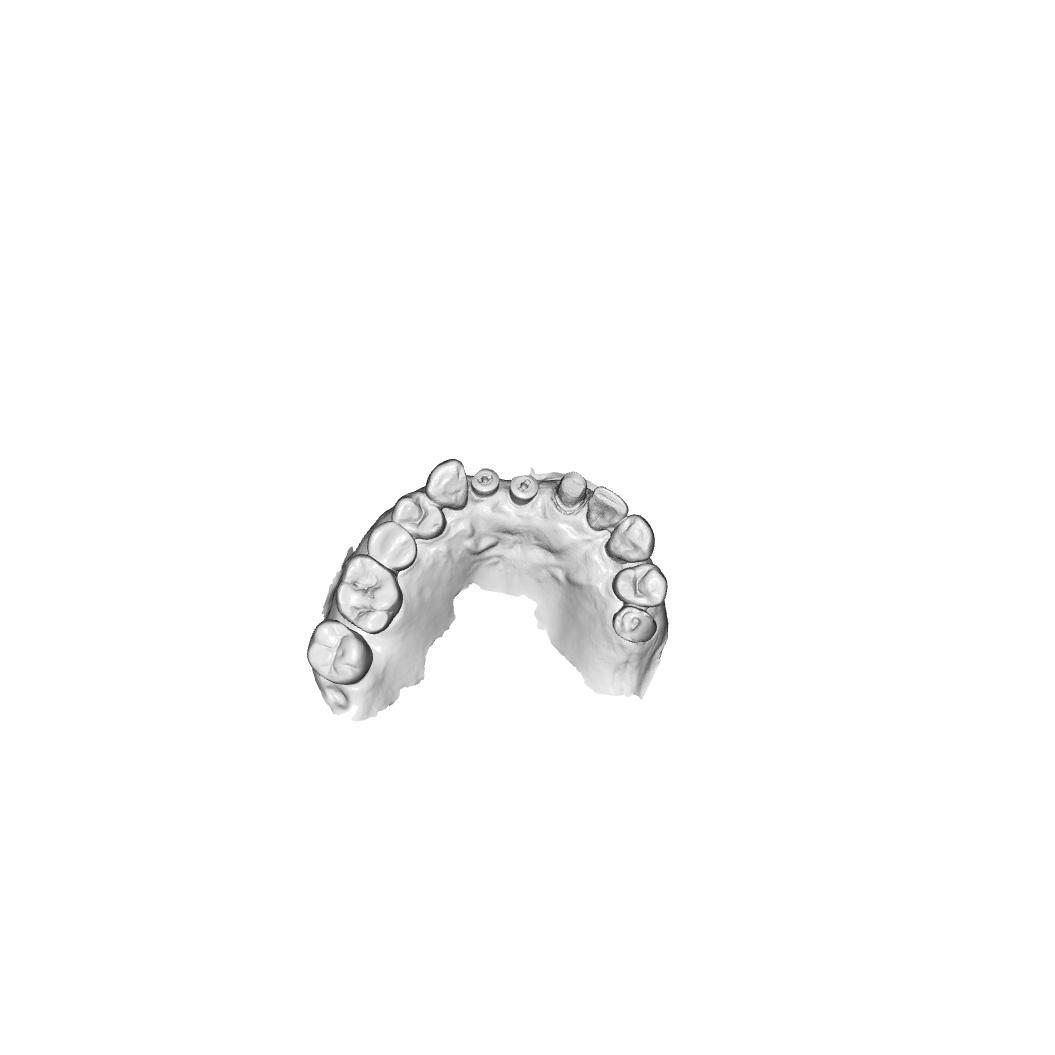canine: (605, 513, 656, 564), (425, 458, 469, 512)
crown: (551, 469, 589, 515)
implant_minus: (508, 474, 540, 506), (470, 467, 500, 498)
incisor: (586, 485, 629, 532)
molar: (335, 553, 404, 635), (306, 618, 374, 687)
premolar: (392, 490, 448, 541), (366, 520, 418, 572), (612, 562, 669, 608), (611, 605, 658, 644)
